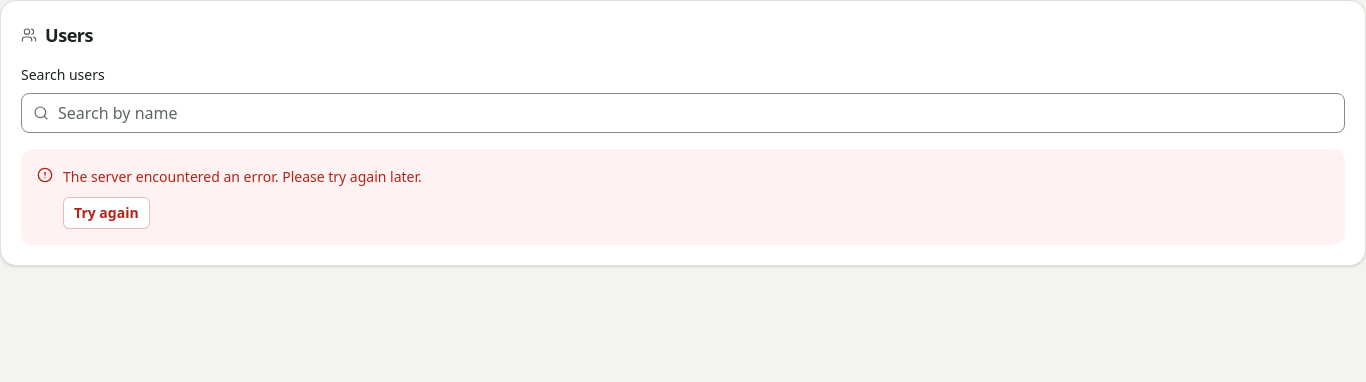
Test: UserDirectory › retries loading users from the error state
Expected: the message reads "The server encountered an error. Please try again later.", [63, 167, 422, 186]
Step 1. Click the button "Try again" → [106, 213], box [63, 197, 150, 229]
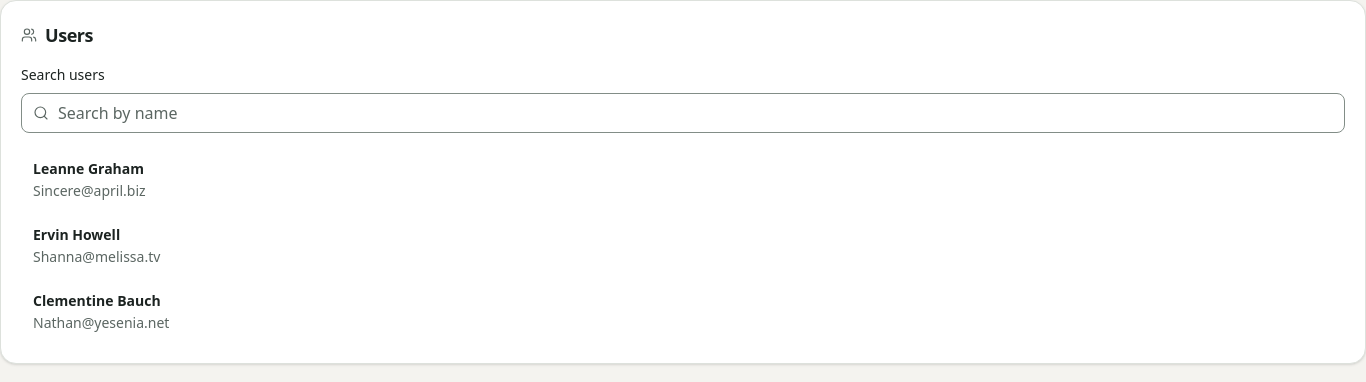
Expected: the text "Leanne Graham" is shown, [33, 159, 146, 179]
